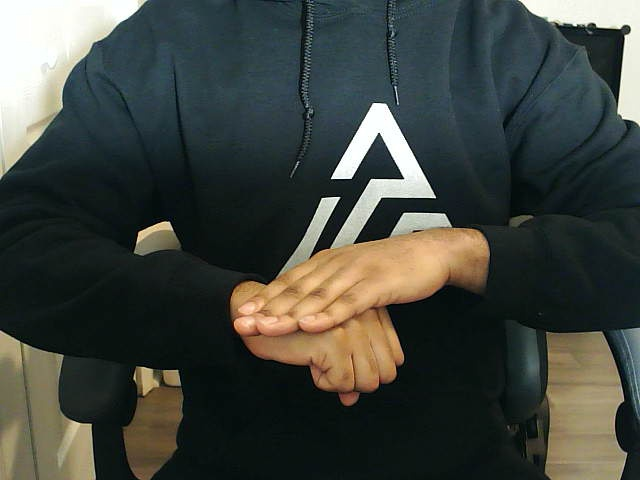Dog: (228, 226, 483, 408)
